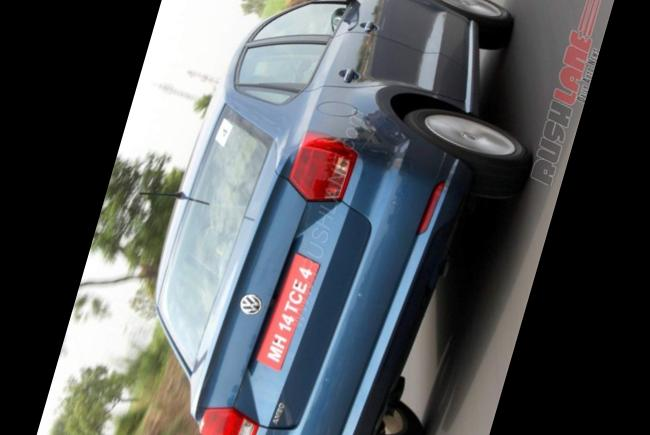plate: (246, 236, 329, 378)
